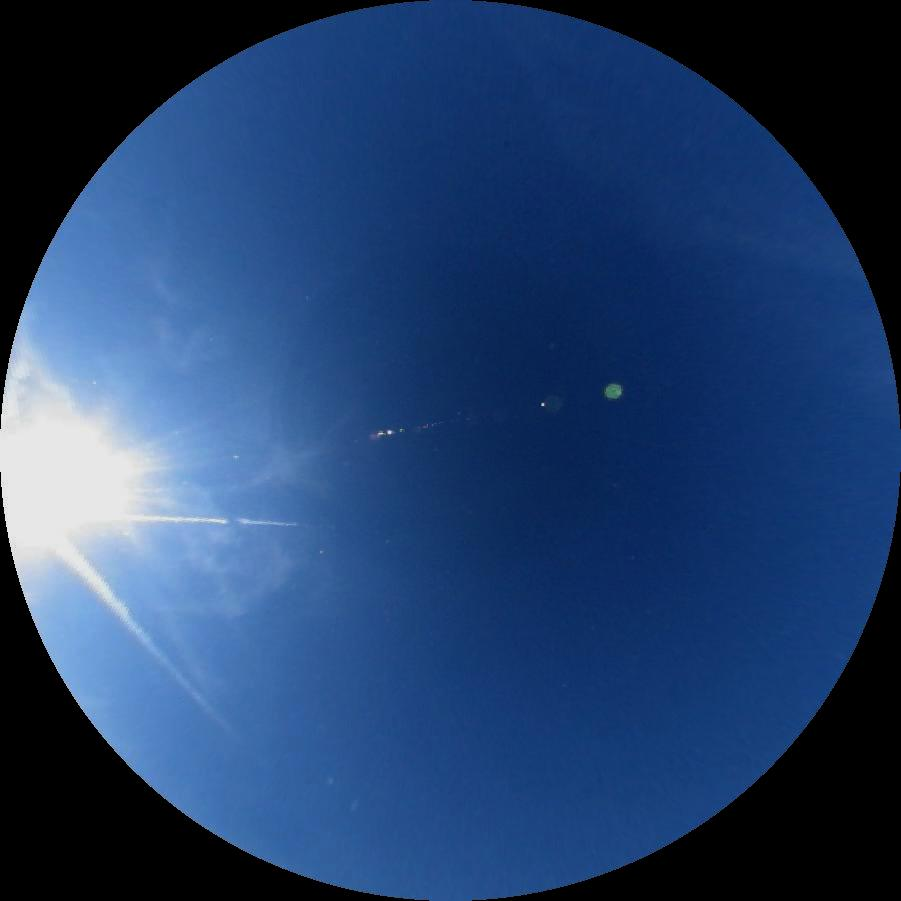contrail veryold: (44, 525, 239, 736)
parasite: (87, 514, 300, 529)
sun: (0, 374, 124, 538)
